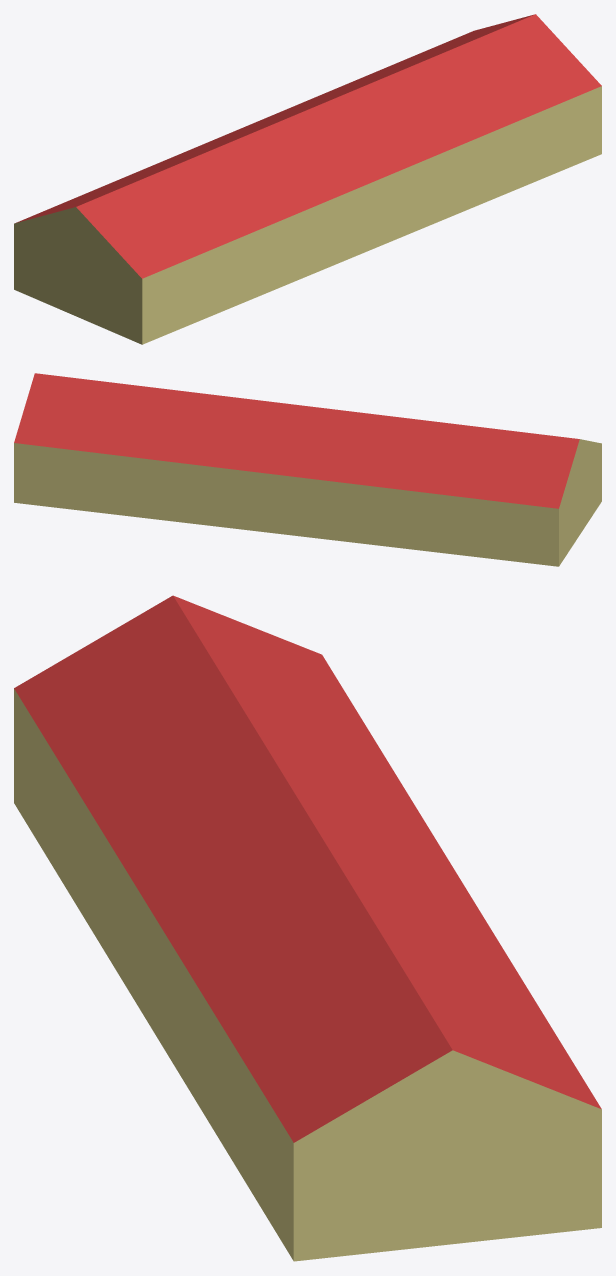
The picture shows the model from 3 angles, top to bottom: view 1: azimuth 30°, elevation 25°; view 2: azimuth 150°, elevation 25°; view 3: azimuth 270°, elevation 25°; orthographic projection. The views are drawn at different scales.
Size of the model in its own units: 45.16 by 22.8 by 8.3.
